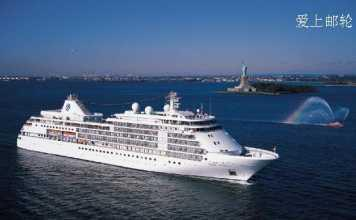youlun: (16, 92, 279, 185)
